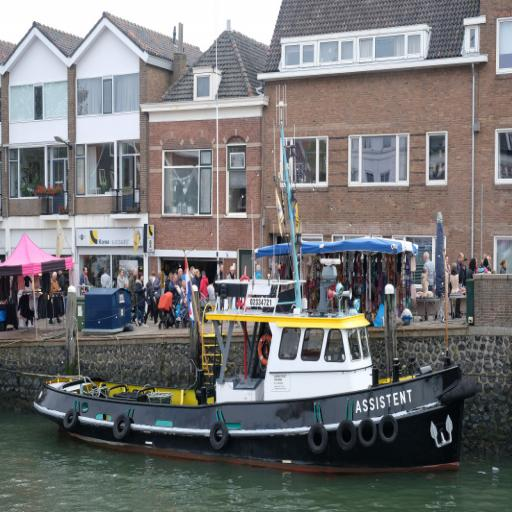tugboat: (32, 246, 468, 488)
